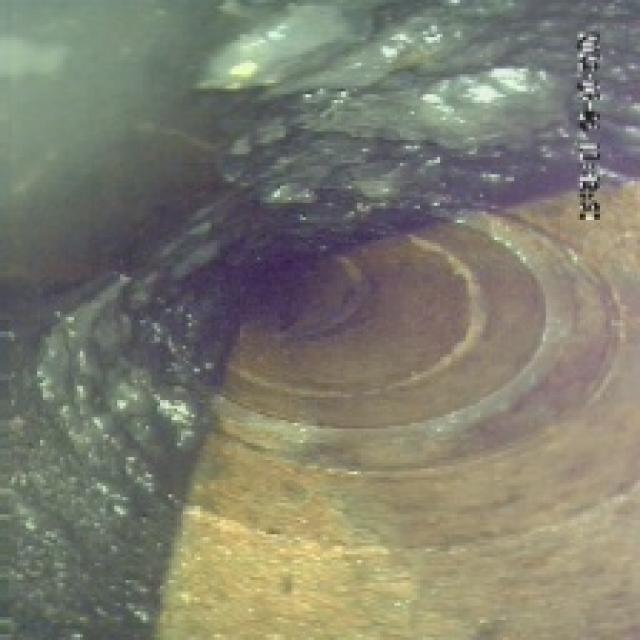sluge accumulation: (14, 12, 526, 617)
